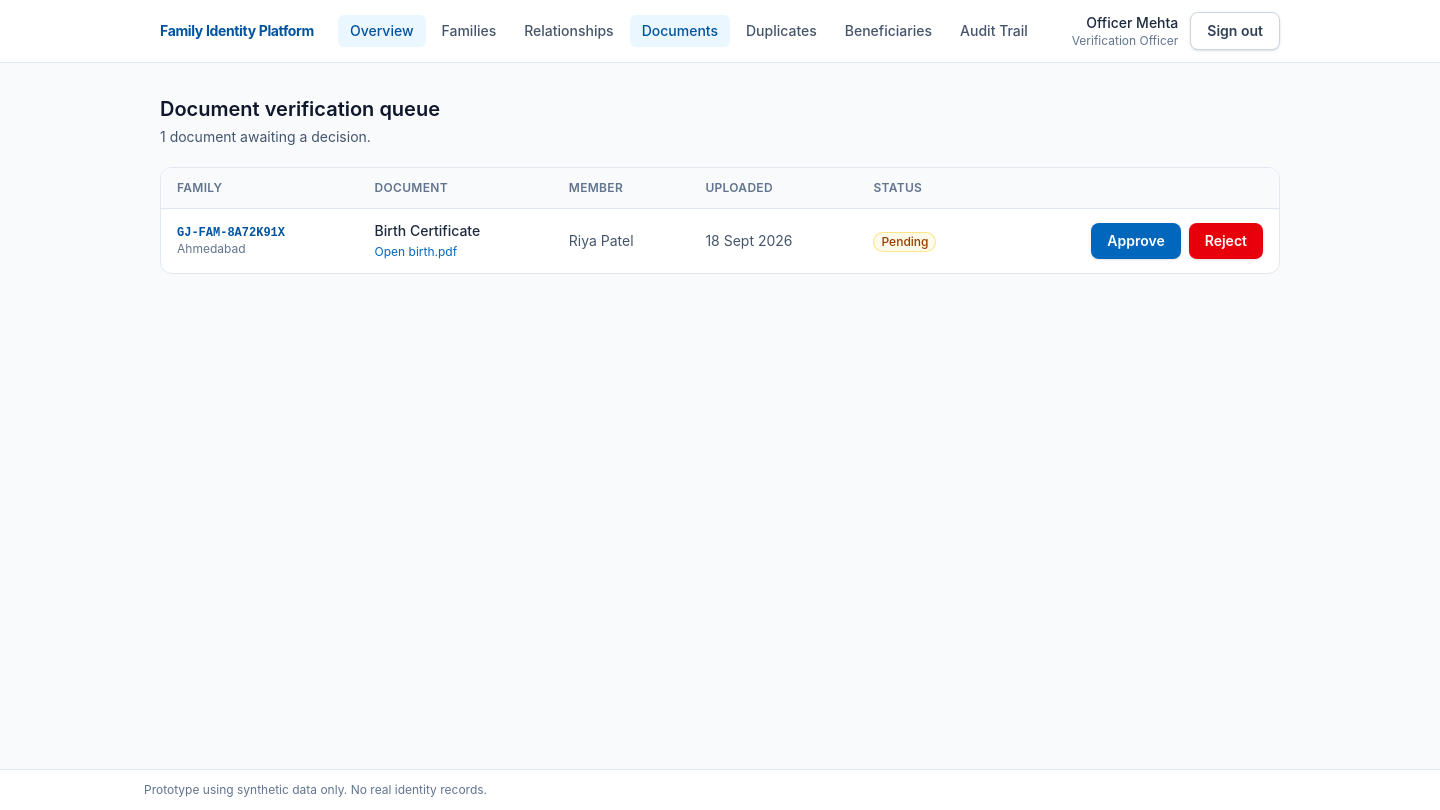
Test: DocumentQueuePage › surfaces a server refusal and keeps the row
This screenshot has width=1440, height=810.
Expected: the text "GJ-FAM-8A72K91X" is shown, [177,226,285,240]
Step 1. Click the button "Approve" → coordinates (1136, 241), box [1091,223,1181,259]
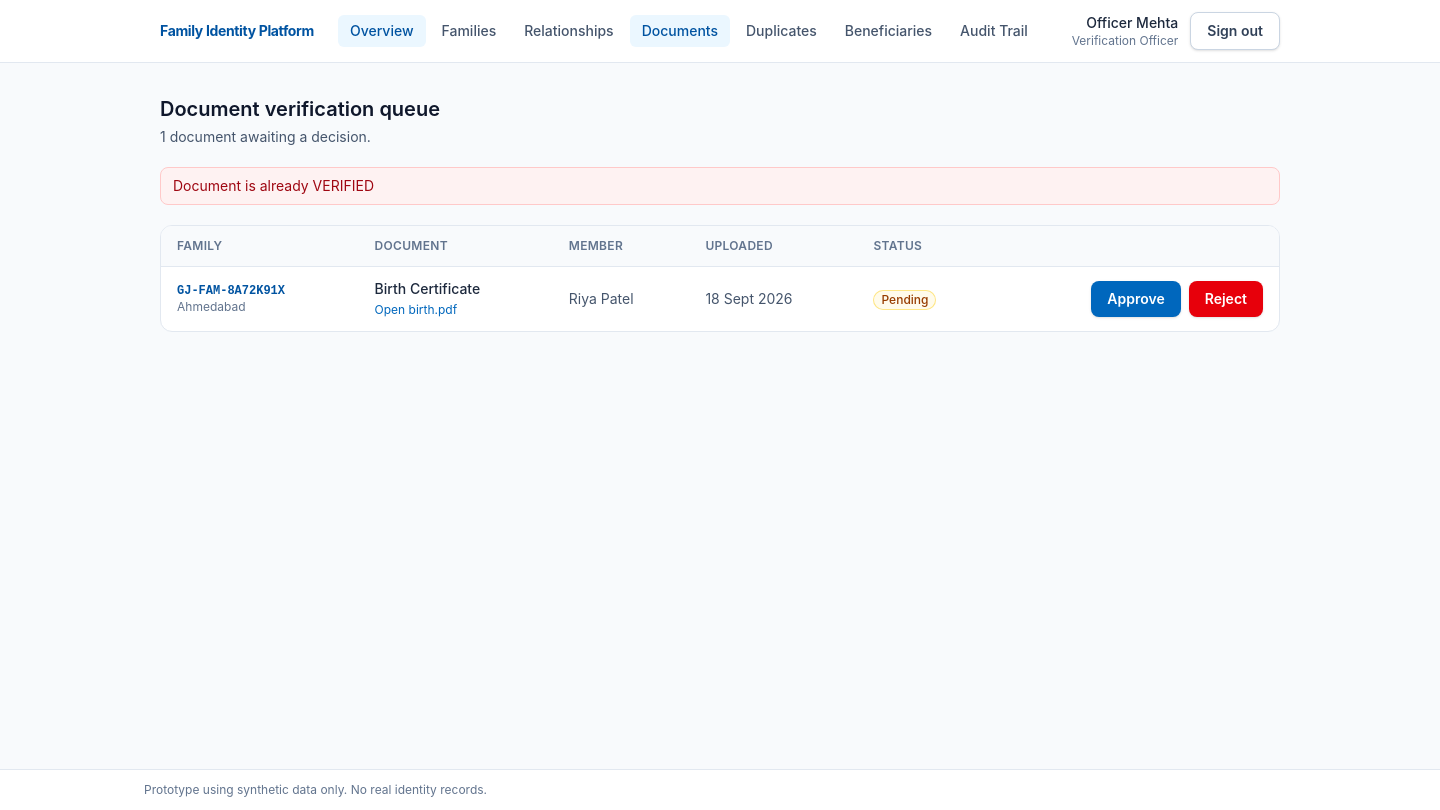
Expected: the text "GJ-FAM-8A72K91X" is shown, [177,284,285,298]
Result: the message shows "already VERIFIED" at [173,177,374,194]
